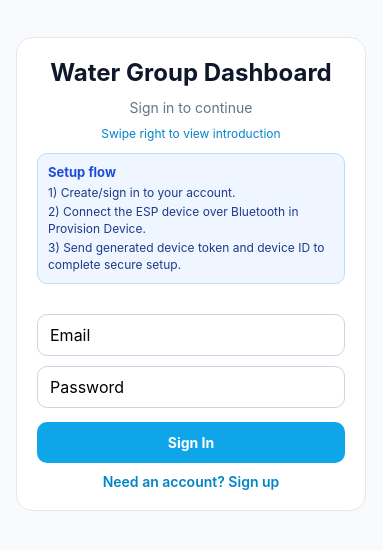
it: AuthScreen › shows friendly message for invalid credentials
The image size is (383, 550).
Type "user@test.com" into the field with placeholder "Email" at coordinates (191, 335), box [37, 314, 345, 356]
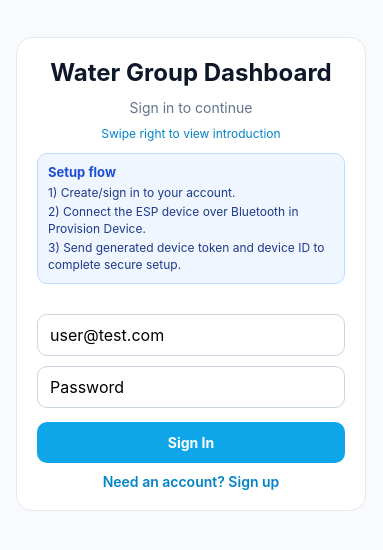
Type "bad" into the password field with placeholder "Password" at coordinates (191, 387), box [37, 366, 345, 408]
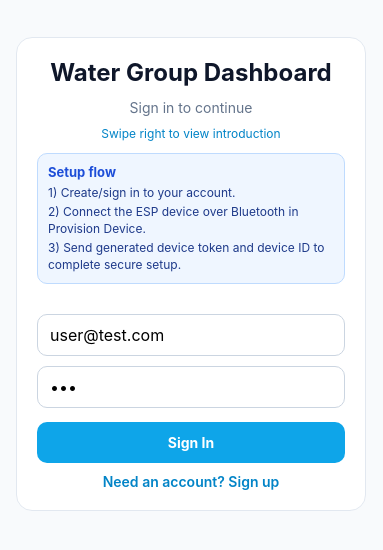
Click the text "Sign In" at coordinates (191, 442), box [168, 434, 214, 451]
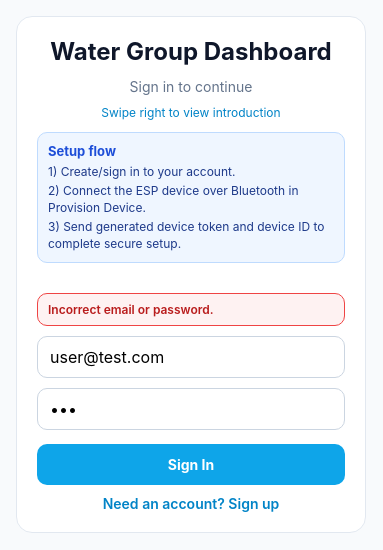
Expected: the text "Incorrect email or password." is shown, [48, 302, 214, 316]
